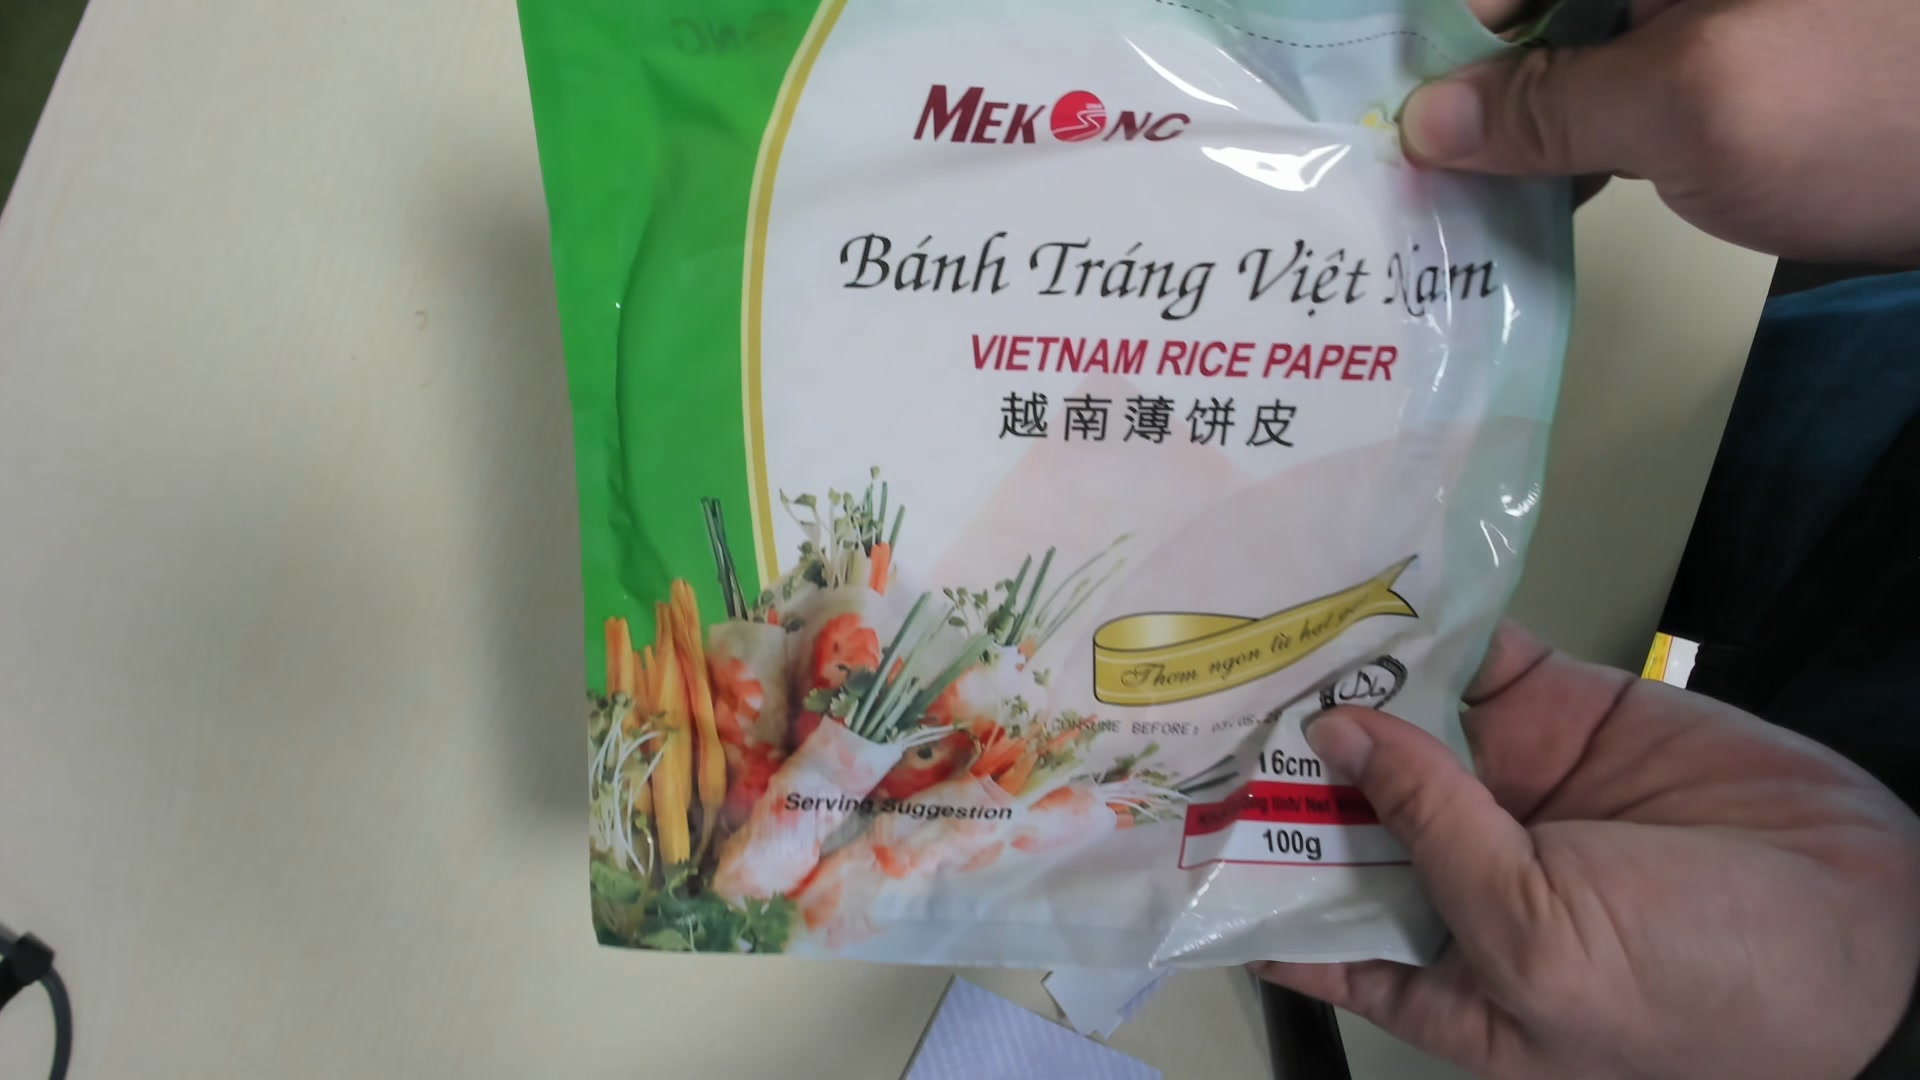InstantMeals_300_399g_NonHalal_NonHealthy: (510, 7, 1575, 986)
